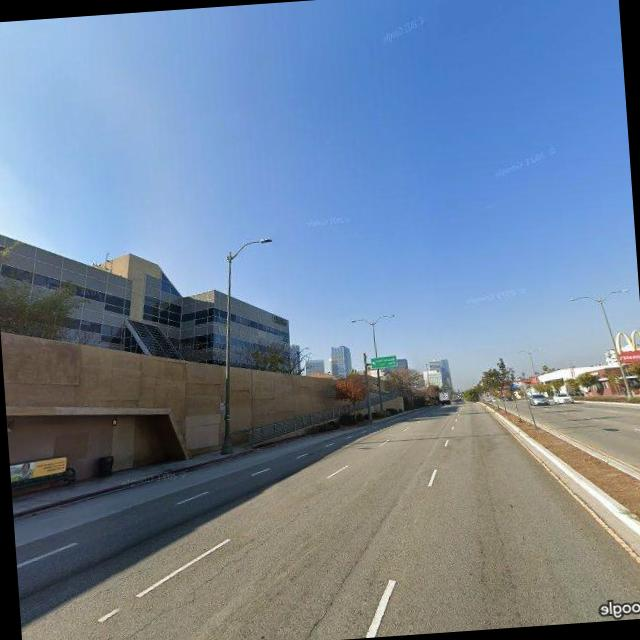pothole: (91, 512, 321, 640)
